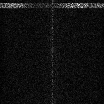wifi: (1, 2, 104, 7)
